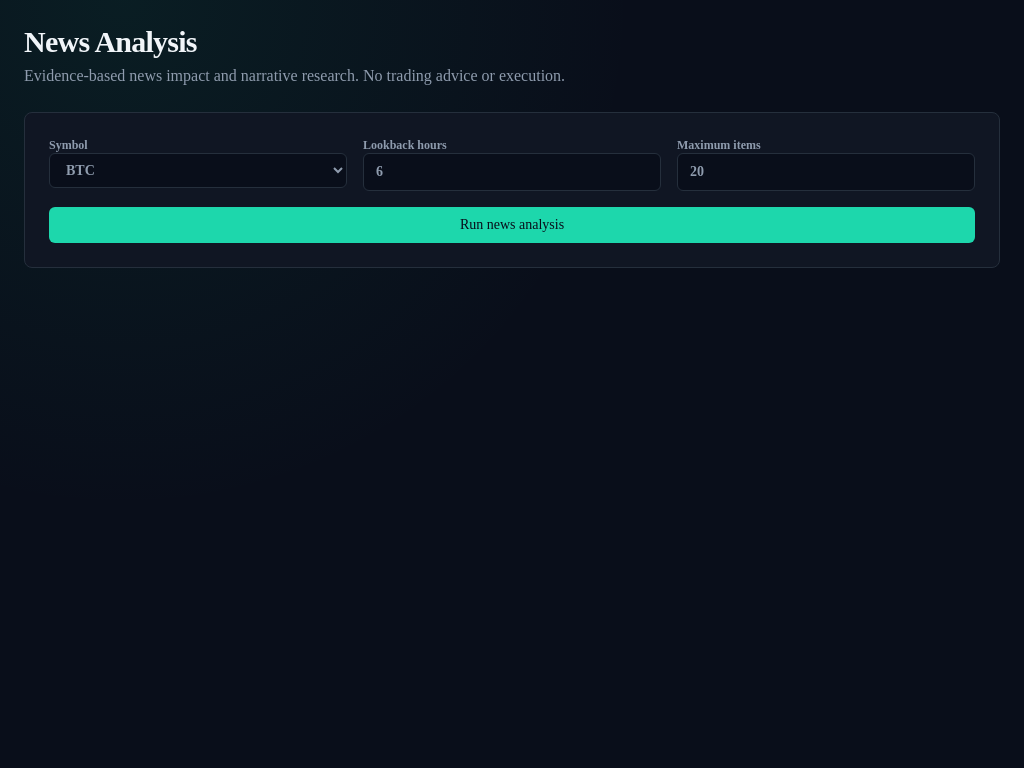
Scenario: News and sentiment analysis pages › runs and displays structured news analysis
What coordinates should you click on to do the following:
click the button "Run news analysis"
I would click on:
 (512, 225)
Its box is [49,207,975,243].
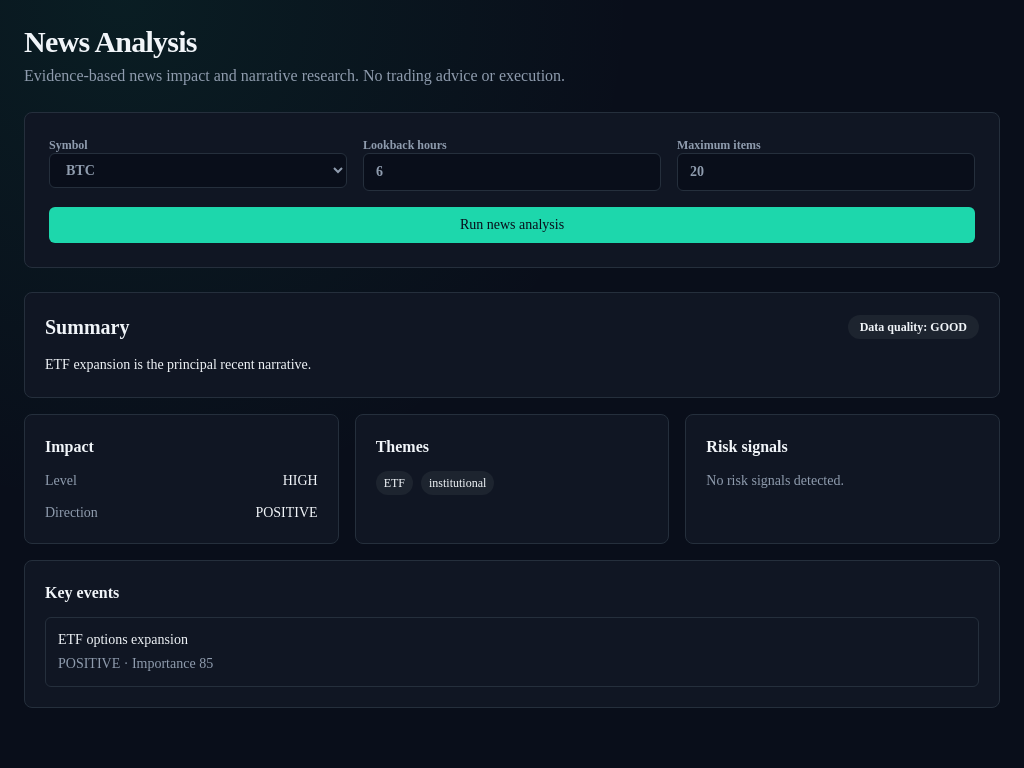
Expected: the text "ETF expansion is the principal recent narrative." is shown, [45,357,311,372]
Expected: the heading "Key events" is shown, [45,584,119,601]
